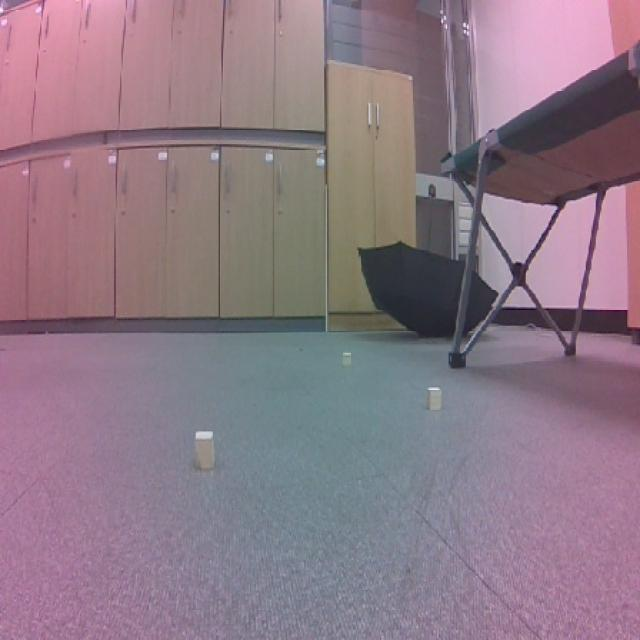obstacle: (185, 415, 221, 488), (421, 378, 450, 419)
